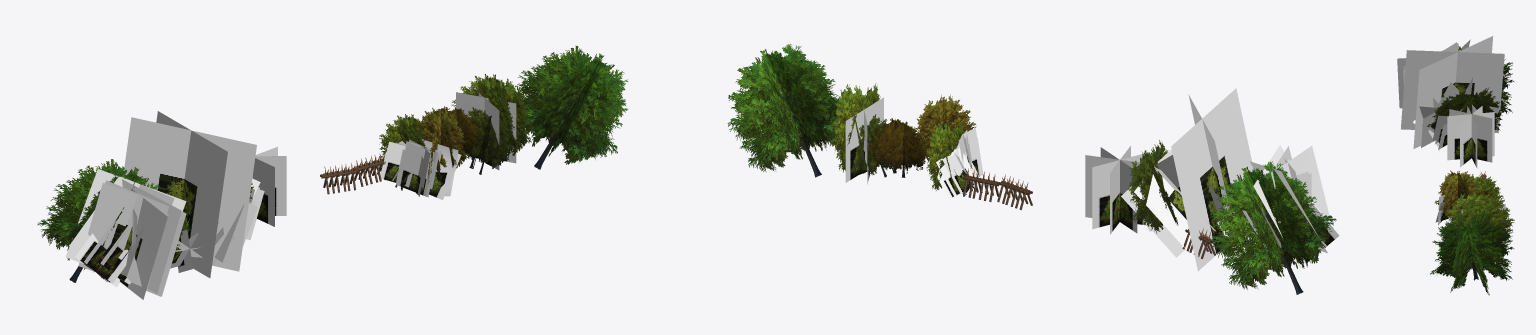
The model's file is HZBQ_ZhaLan_LV01.fbx.
3 renders of one model, left to right at view 1: azimuth 30°, elevation 25°; view 2: azimuth 150°, elevation 25°; view 3: azimuth 270°, elevation 25°, orthographic. The views are drawn at different scales.
Visible parts, largest first — view 1: HZBQ_well, HZBQ_zhalan_02, HZBQ_zhalan_03; view 2: HZBQ_well, HZBQ_zhalan_02, HZBQ_zhalan_03; view 3: HZBQ_well.
Part boxes in pixels (<box>): HZBQ_well: <box>37,45,628,299</box>; HZBQ_zhalan_02: <box>320,162,357,194</box>; HZBQ_zhalan_03: <box>353,153,385,186</box>; HZBQ_well: <box>727,44,1339,294</box>; HZBQ_zhalan_02: <box>997,174,1032,210</box>; HZBQ_zhalan_03: <box>962,168,1000,201</box>; HZBQ_well: <box>1397,36,1514,295</box>.
Bounding box in the file's own units: 3039 × 799 × 711.
